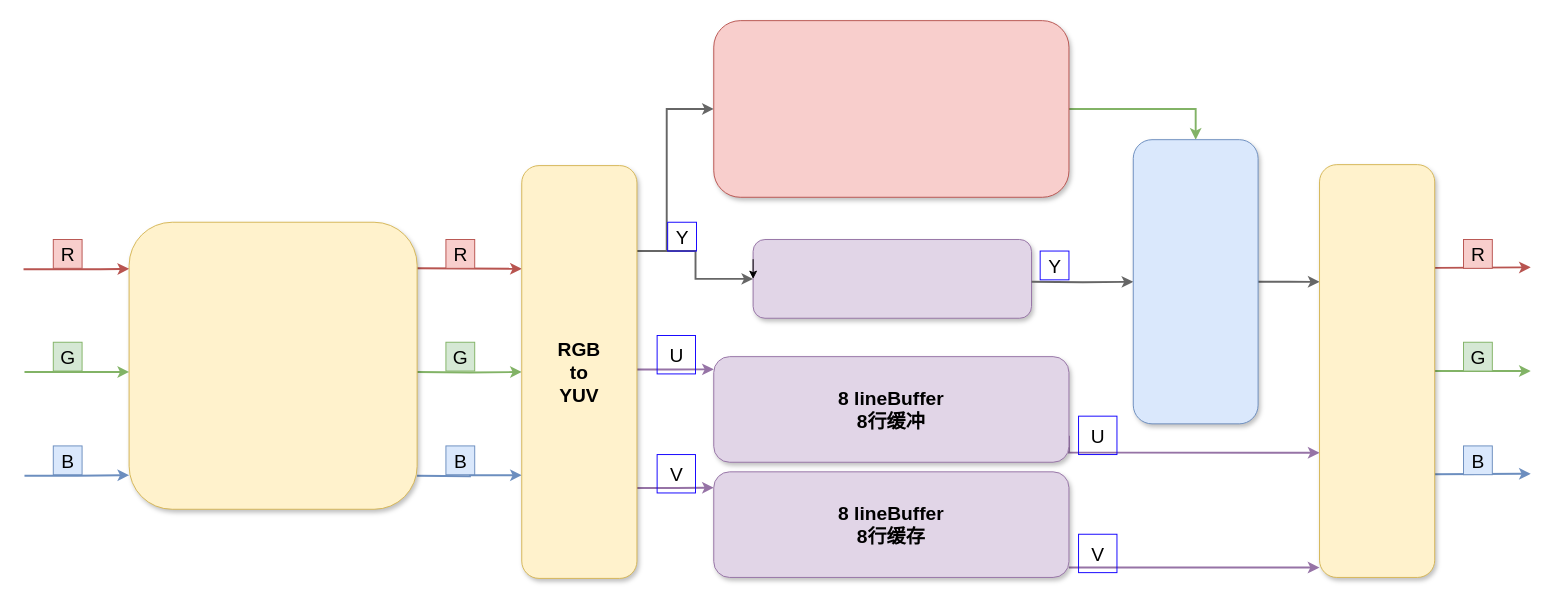
Image size: 1555x602. Some labels were removed from this diagram. The shapes that lost their labels are listed below. From the top down, each one's centre as x and y in pixels, then its label:
At point (892, 110): "Texture Classifier 纹理分类器".
At point (892, 280): "5 lineBuffer 5行缓冲".
At point (1196, 283): "Adaptive Sharpener 自适应锐化器".
At point (273, 366): "Bicubic 上采样模块".
At point (1377, 372): "YUV to RGB".
